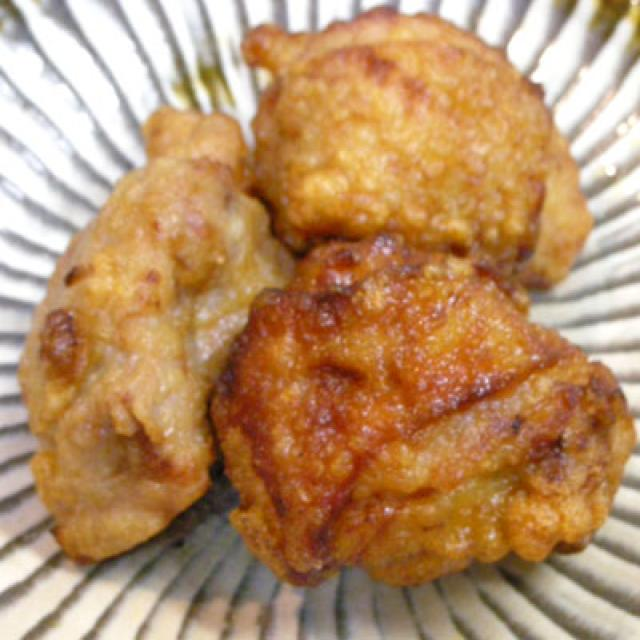鸡肉料理 含炸鸡: (9, 9, 628, 598)
